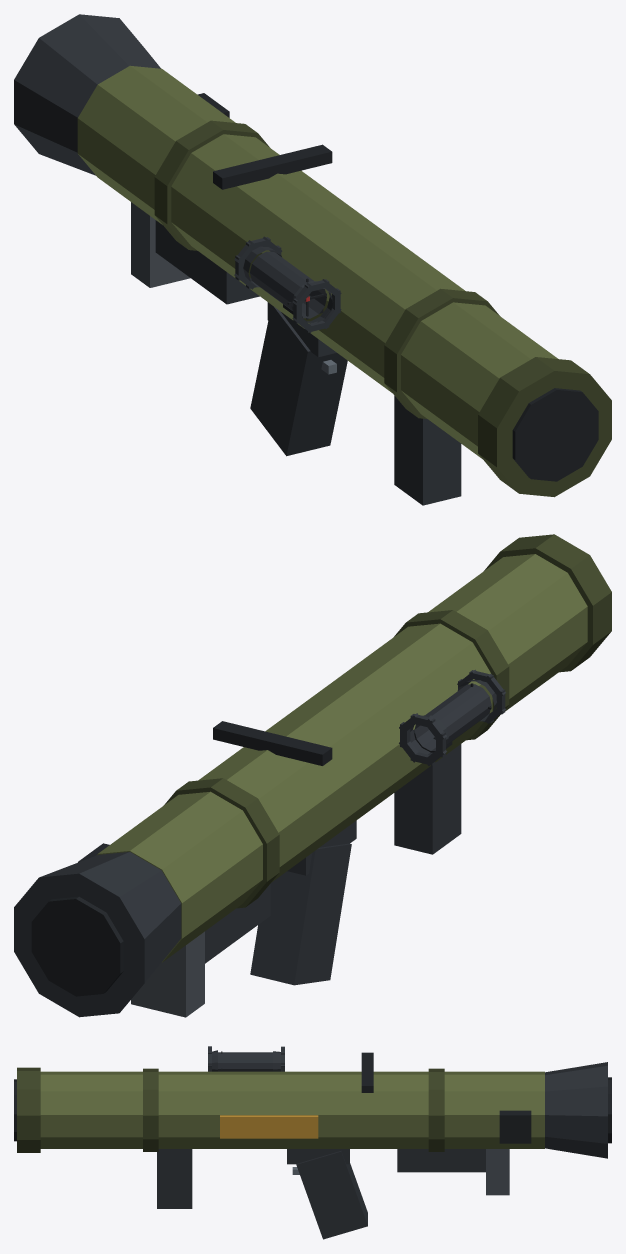
Rendered from wpn_goose.fbx.
The picture shows the model from 3 angles, top to bottom: view 1: azimuth 30°, elevation 25°; view 2: azimuth 150°, elevation 25°; view 3: azimuth 270°, elevation 25°; orthographic projection. The views are drawn at different scales.
Visible parts, largest first — view 1: wpn_goose; view 2: wpn_goose; view 3: wpn_goose.
Part boxes in pixels (x1,y1,x2,y2): wpn_goose: (14, 14, 611, 505); wpn_goose: (14, 534, 611, 1017); wpn_goose: (14, 1046, 611, 1239).
Bounding box in the file's own units: 62.19 × 93.63 × 304.
